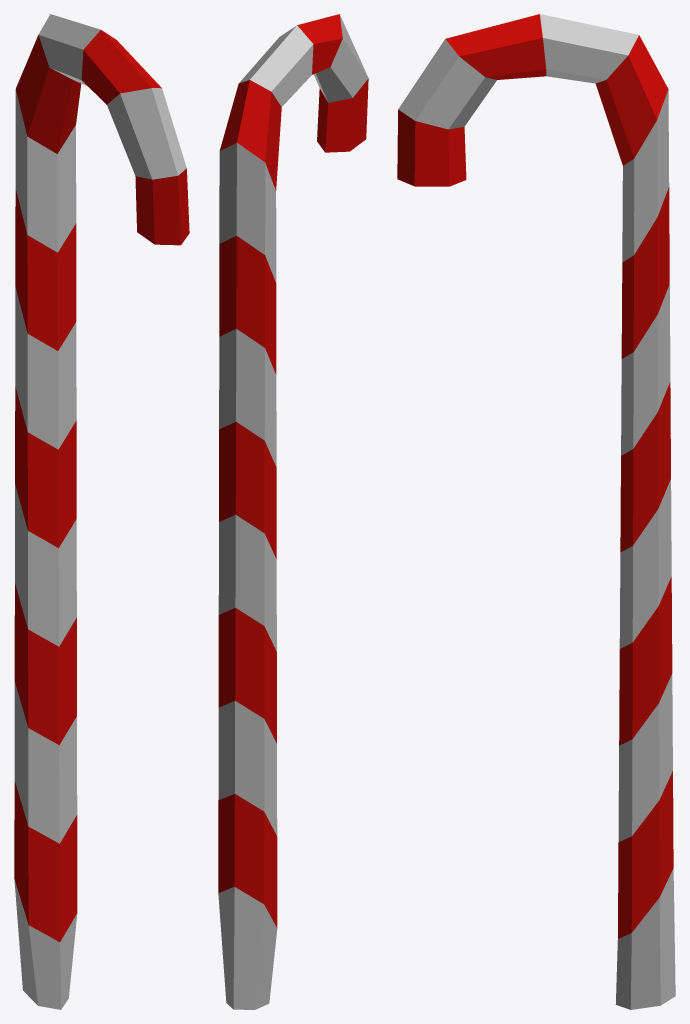
File: candycanebroken.fbx
3 renders of one model, left to right at view 1: azimuth 30°, elevation 25°; view 2: azimuth 150°, elevation 25°; view 3: azimuth 270°, elevation 25°, orthographic. The views are drawn at different scales.
Parts seen in each view (by area): view 1: Cylinder.001, Cylinder.002; view 2: Cylinder.001, Cylinder.002; view 3: Cylinder.001, Cylinder.002.
Boxes of the visible parts, x1,y1,x2,y2 form: Cylinder.001: [15, 14, 189, 548]; Cylinder.002: [14, 484, 77, 1009]; Cylinder.001: [219, 14, 368, 558]; Cylinder.002: [218, 514, 277, 1009]; Cylinder.001: [397, 14, 670, 552]; Cylinder.002: [615, 479, 675, 1009].
Size of the model in its own units: 20.36 by 98.63 by 388.
